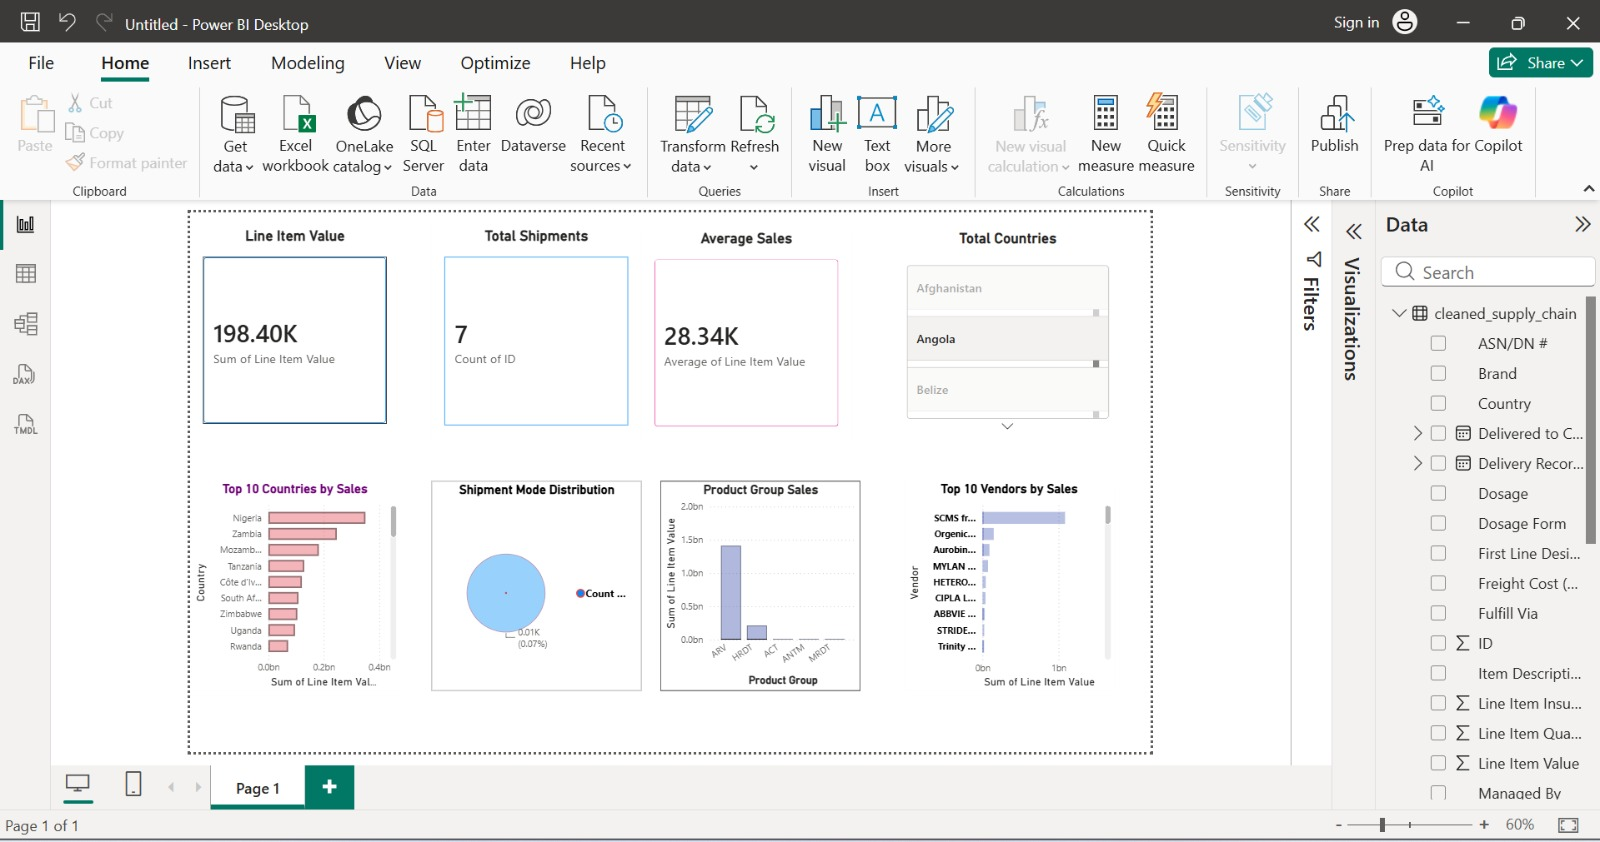

Layout of this report page (visuals, bound fields, positions):
{"tool":"powerbi","page":{"name":"Page 1","canvas":[1280,720],"ordinal":0},"visuals":[{"type":"cardVisual","title":"Line Item Value","fields":{"Data":["Sum(cleaned_supply_chain.Line Item Value)"]},"box":[0,20.8,279.7,279.7],"z":0},{"type":"cardVisual","title":"Total Shipments","fields":{"Data":["CountNonNull(cleaned_supply_chain.ID)"]},"box":[321.3,20.8,279.7,281.6],"z":1000},{"type":"cardVisual","title":"Average Sales","fields":{"Data":["Avg(cleaned_supply_chain.Line Item Value)"]},"box":[600.9,22.7,279.7,279.7],"z":2000},{"type":"cardVisual","title":"Total Countries","fields":{"Rows":["cleaned_supply_chain.Country"]},"box":[950.6,22.7,279.7,277.8],"z":3000},{"type":"clusteredBarChart","title":"Top 10 Countries by Sales","fields":{"Category":["cleaned_supply_chain.Country"],"Y":["Sum(cleaned_supply_chain.Line Item Value)"]},"box":[0,359.1,279.7,279.7],"z":4000},{"type":"pieChart","title":"Shipment Mode Distribution","fields":{"Y":["CountNonNull(cleaned_supply_chain.ID)"]},"box":[321.3,359.1,279.7,279.7],"z":5000},{"type":"clusteredColumnChart","title":"Product Group Sales","fields":{"Category":["cleaned_supply_chain.Product Group"],"Y":["Sum(cleaned_supply_chain.Line Item Value)"]},"box":[627.4,359.1,266.5,279.7],"z":5001},{"type":"barChart","title":"Top 10 Vendors by Sales","fields":{"Category":["cleaned_supply_chain.Vendor"],"Y":["Sum(cleaned_supply_chain.Line Item Value)"]},"box":[951,359,280,280],"z":5002}]}

Visuals, with their boxes on the page's 1280x720 design canvas (x1, y1, x2, y2). These are canvas units, not pixel positions in the 1600x842 screenshot, which may show the page scaled, cropped or inside an application window:
"Line Item Value" cardVisual: 0, 21, 280, 300
"Total Shipments" cardVisual: 321, 21, 601, 302
"Average Sales" cardVisual: 601, 23, 881, 302
"Total Countries" cardVisual: 951, 23, 1230, 300
"Top 10 Countries by Sales" clusteredBarChart: 0, 359, 280, 639
"Shipment Mode Distribution" pieChart: 321, 359, 601, 639
"Product Group Sales" clusteredColumnChart: 627, 359, 894, 639
"Top 10 Vendors by Sales" barChart: 951, 359, 1231, 639
